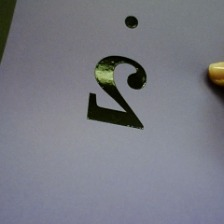violet2: (80, 11, 160, 136)
